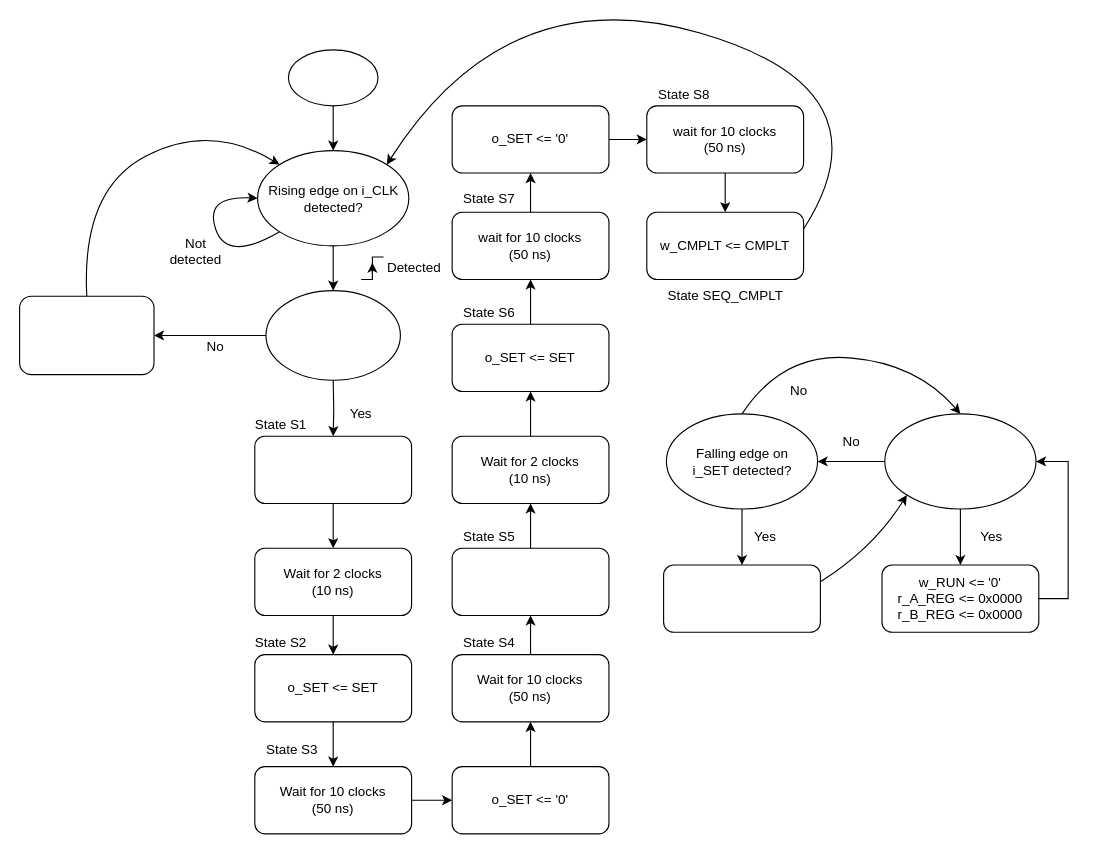
This 1098x853 diagram has some shape labels left out. The centre of each missing label's shape, as x and y in pixels:
o_DATA <= r_A_REG: the point at 333,469
o_DATA <= r_B_REG: the point at 530,581
Start: the point at 332,77
w_CMPLT <= '0' v_Count := 0 o_SET <= '0' state <= S1: the point at 86,335
w_CMPLT = CMPLT or i_RESET = '1'?: the point at 960,461
w_RUN <= RUN r_A_REG <= i_DATA_A r_B_REG <= i_DATA_B: the point at 741,598
w_RUN = RUN?: the point at 332,335
